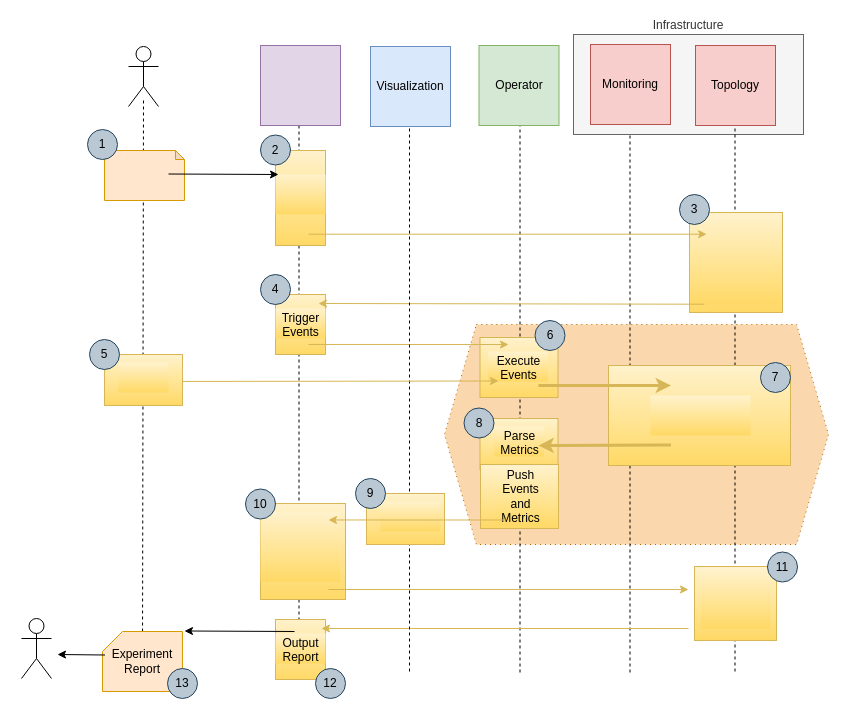
Some shapes in this 846 by 716 pixel diagram are drawn without their labels. Here are the shapes that lost their labels. From the top down, the box of each, then its label:
(128, 46, 158, 106): Tester
(260, 44, 340, 126): Manager
(104, 150, 184, 200): Experiment Config
(275, 174, 325, 214): Parse and Deploy
(690, 214, 780, 304): Build Topology and Ack Management Info
(118, 362, 168, 392): Push Events
(444, 324, 828, 544): Iterative Activities
(650, 395, 750, 435): Perform Events and Extract Metrics
(380, 501, 440, 531): Display Metrics
(260, 512, 340, 582): Store Metrics and Finish Experiment
(700, 568, 770, 628): Tear-down and Clear Topology
(20, 618, 52, 678): Analyst
